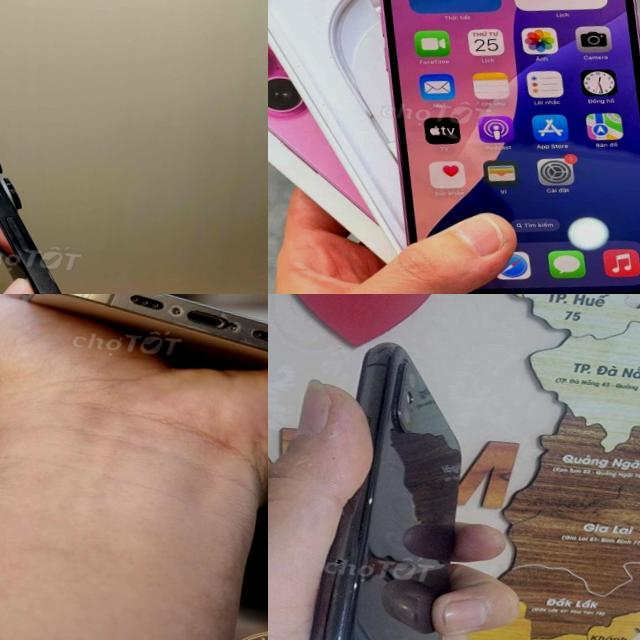gen_14: (0, 111, 179, 294), (2, 294, 268, 405)
gen_16: (329, 0, 640, 294)
gen_x_xs: (309, 343, 460, 640)
physical_damage: (27, 294, 74, 301)
scratch: (212, 308, 252, 346), (330, 574, 381, 600), (117, 294, 178, 303), (162, 298, 184, 318), (361, 486, 378, 511)
